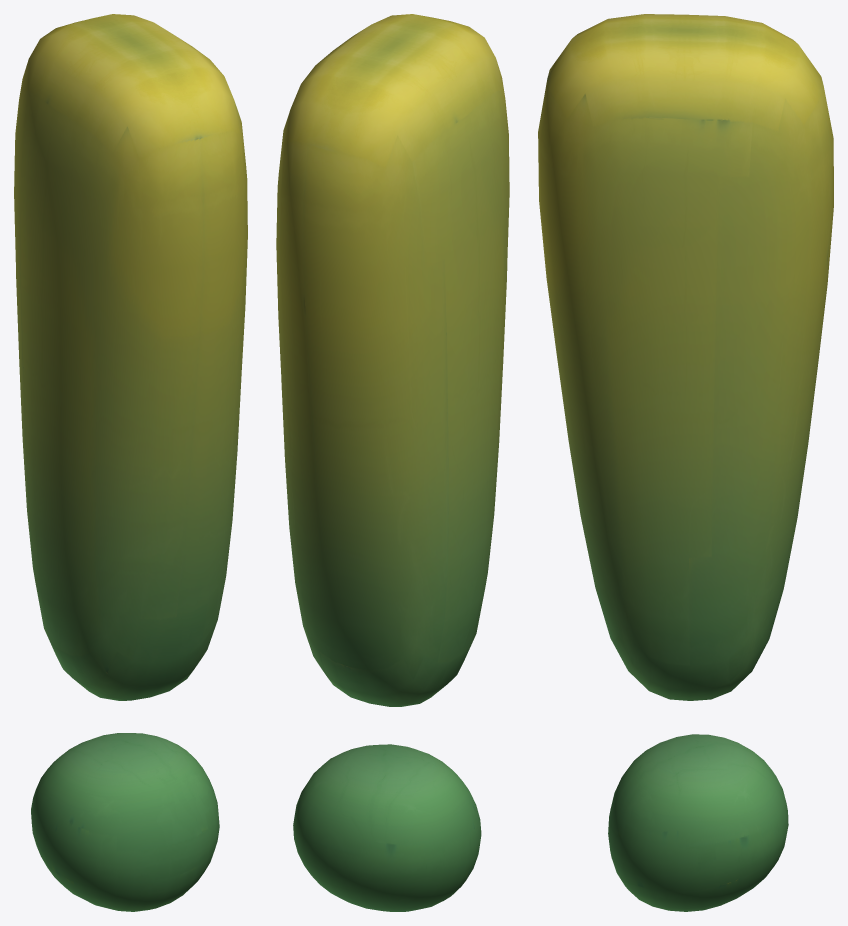
The model's file is ExclamationMarkSingleColored.dae.
The picture shows the model from 3 angles, left to right: view 1: azimuth 30°, elevation 25°; view 2: azimuth 150°, elevation 25°; view 3: azimuth 270°, elevation 25°; orthographic projection.
Visible parts, largest first — view 1: Cube_005; view 2: Cube_005; view 3: Cube_005.
Part boxes in pixels (left/top/right/bottom): Cube_005: left=14, top=14, right=247, bottom=911; Cube_005: left=276, top=14, right=509, bottom=911; Cube_005: left=538, top=14, right=833, bottom=911.
Bounding box in the file's own units: 0.5834 × 0.8393 × 2.73.
Materials: 1 (1 with a texture image).
